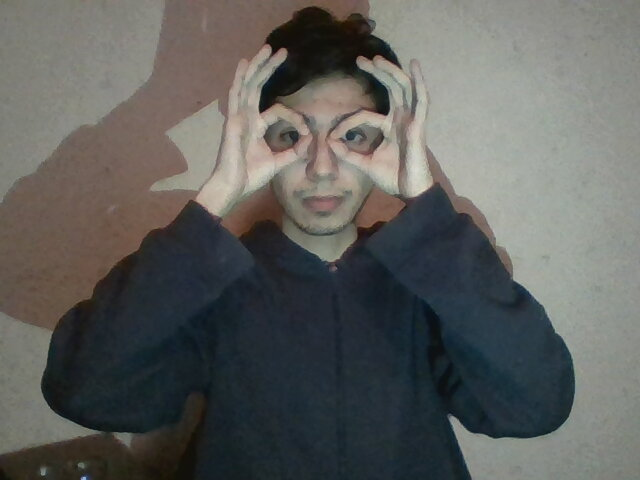buho: (213, 39, 447, 214)
